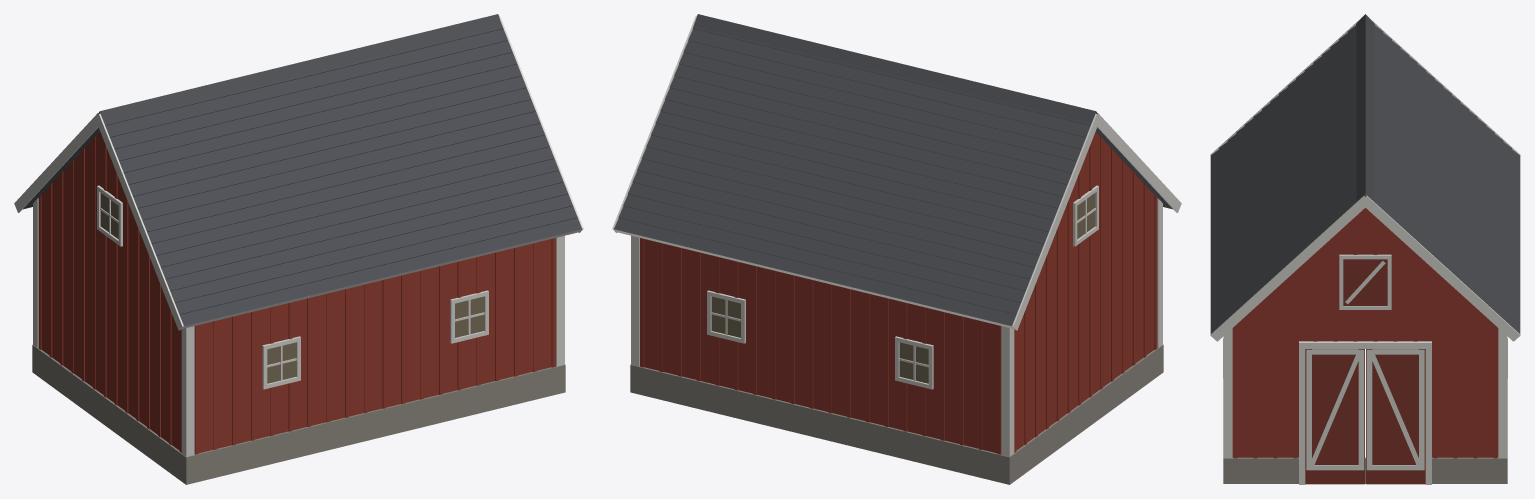
Rendered from barn_red.glb.
The picture shows the model from 3 angles, left to right: view 1: azimuth 30°, elevation 25°; view 2: azimuth 150°, elevation 25°; view 3: azimuth 270°, elevation 25°; orthographic projection. The views are drawn at different scales.
Visible parts, largest first — view 1: barn_red_lod0; view 2: barn_red_lod0; view 3: barn_red_lod0.
Part boxes in pixels (x1,y1,x2,y2): barn_red_lod0: (14, 14, 583, 484); barn_red_lod0: (612, 14, 1181, 484); barn_red_lod0: (1210, 14, 1520, 484).
Size of what is drawn, in the model's own units: 10.68 by 8.13 by 7.76.
